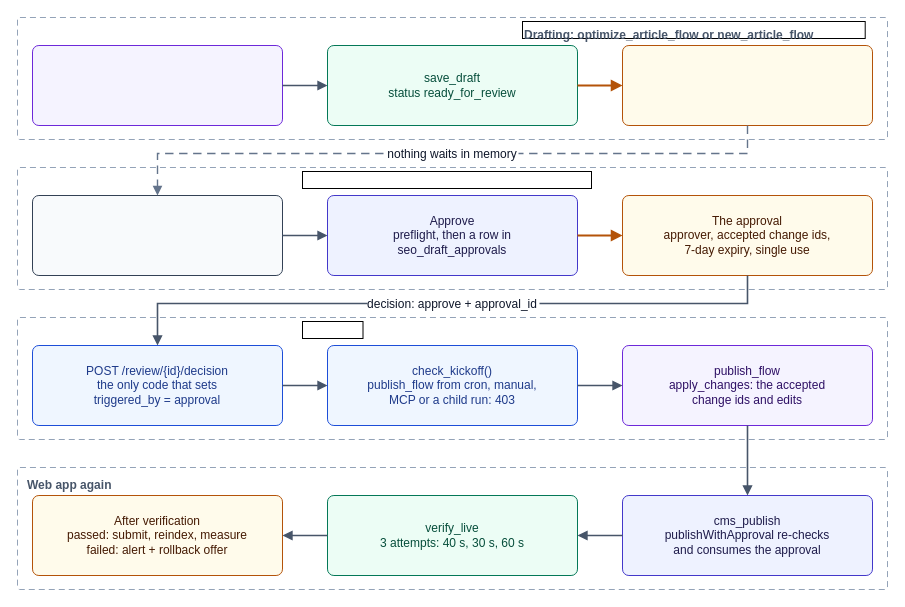
Some shapes in this 905 by 607 pixel diagram are drawn without their labels. Here are the shapes that lost their labels. From the top down, the box of each, then its label:
(32, 44, 282, 126): A crew writes a draft its agents hold read-only tools
(622, 44, 872, 126): The flow ends final state in seo_flow_runs
(302, 170, 592, 188): Web app: the review UI, hours or days later
(32, 194, 282, 276): A person reviews accept, reject or edit each change
(302, 320, 363, 338): seo-agent
